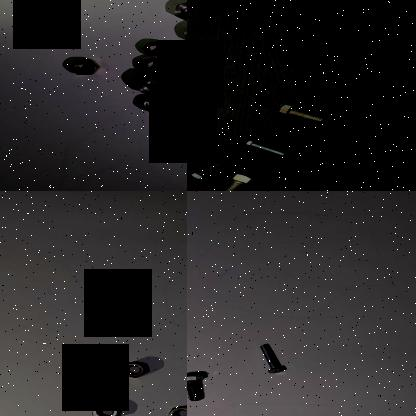Bolts: (264, 101, 328, 127), (205, 169, 269, 191), (255, 336, 289, 376), (187, 371, 222, 401), (239, 135, 288, 156), (187, 159, 227, 183), (187, 112, 199, 140)
NUTS: (136, 71, 177, 97), (20, 13, 64, 37), (138, 94, 176, 113), (138, 55, 172, 76), (115, 359, 151, 378), (142, 36, 174, 56), (70, 57, 102, 76), (89, 400, 123, 416), (171, 0, 187, 23), (164, 403, 187, 416), (178, 42, 187, 65)
